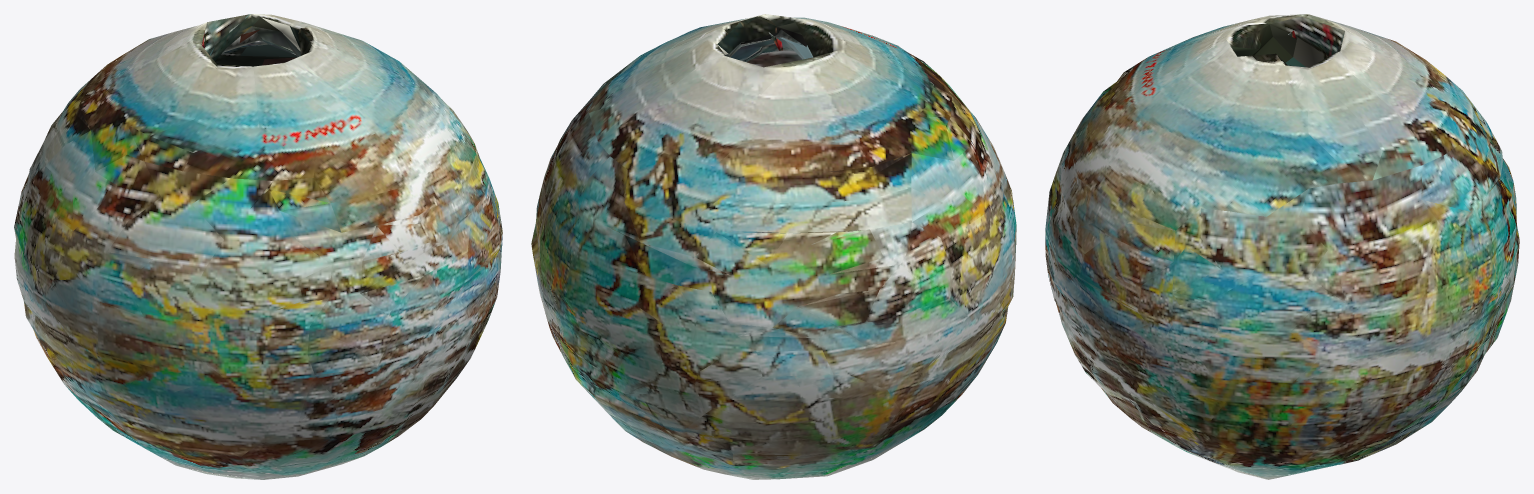
File: AT3 ChanLim Landscape3.glb
The picture shows the model from 3 angles, left to right: view 1: azimuth 30°, elevation 25°; view 2: azimuth 150°, elevation 25°; view 3: azimuth 270°, elevation 25°; orthographic projection. The views are drawn at different scales.
Bounding box in the file's own units: 1000 × 955 × 1000.
1 material, 1 textured.
